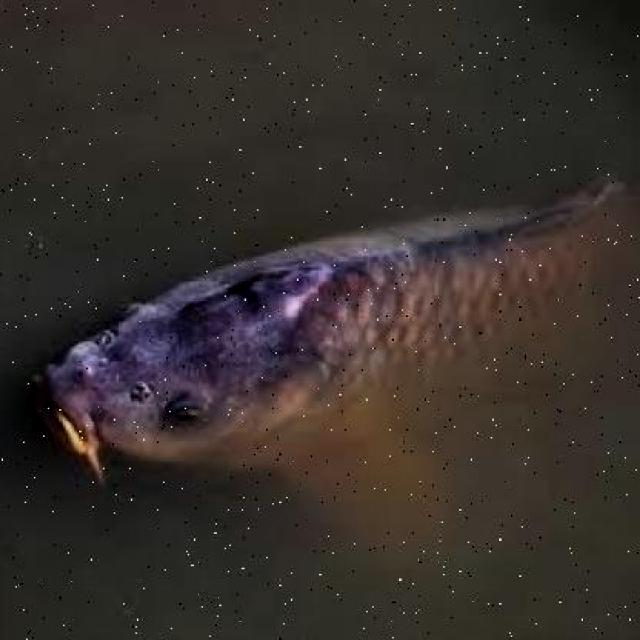ikan-mas: (26, 187, 632, 484)
